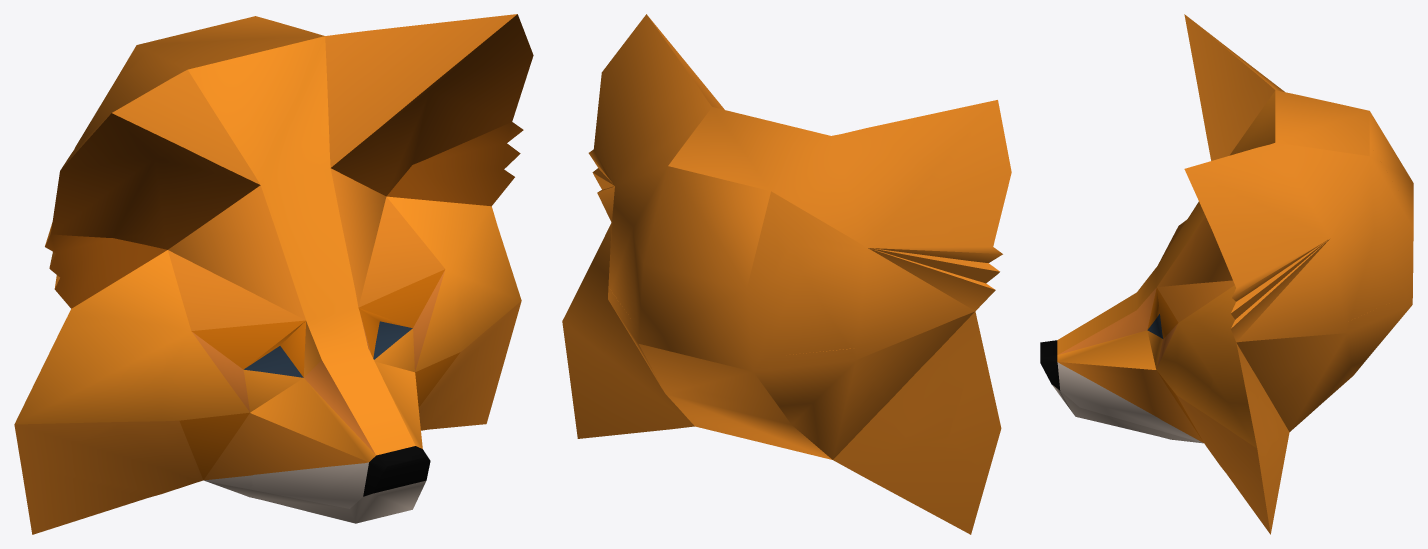
File: fox_2.glb
3 views of the same model, side by side, from view 1: azimuth 30°, elevation 25°; view 2: azimuth 150°, elevation 25°; view 3: azimuth 270°, elevation 25° (orthographic). The views are drawn at different scales.
Visible parts, largest first — view 1: fox_001; view 2: fox_001; view 3: fox_001.
Boxes of the visible parts, x1,y1,x2,y2 form: fox_001: (14,14,533,534); fox_001: (562,14,1011,534); fox_001: (1040,14,1413,534).
Bounding box in the file's own units: 2.44 × 2.1 × 1.99.
